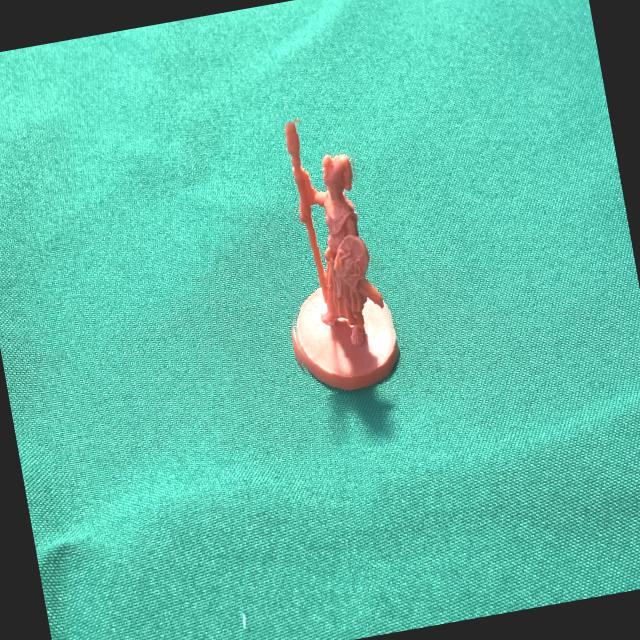amon_follower: (285, 119, 399, 390)
